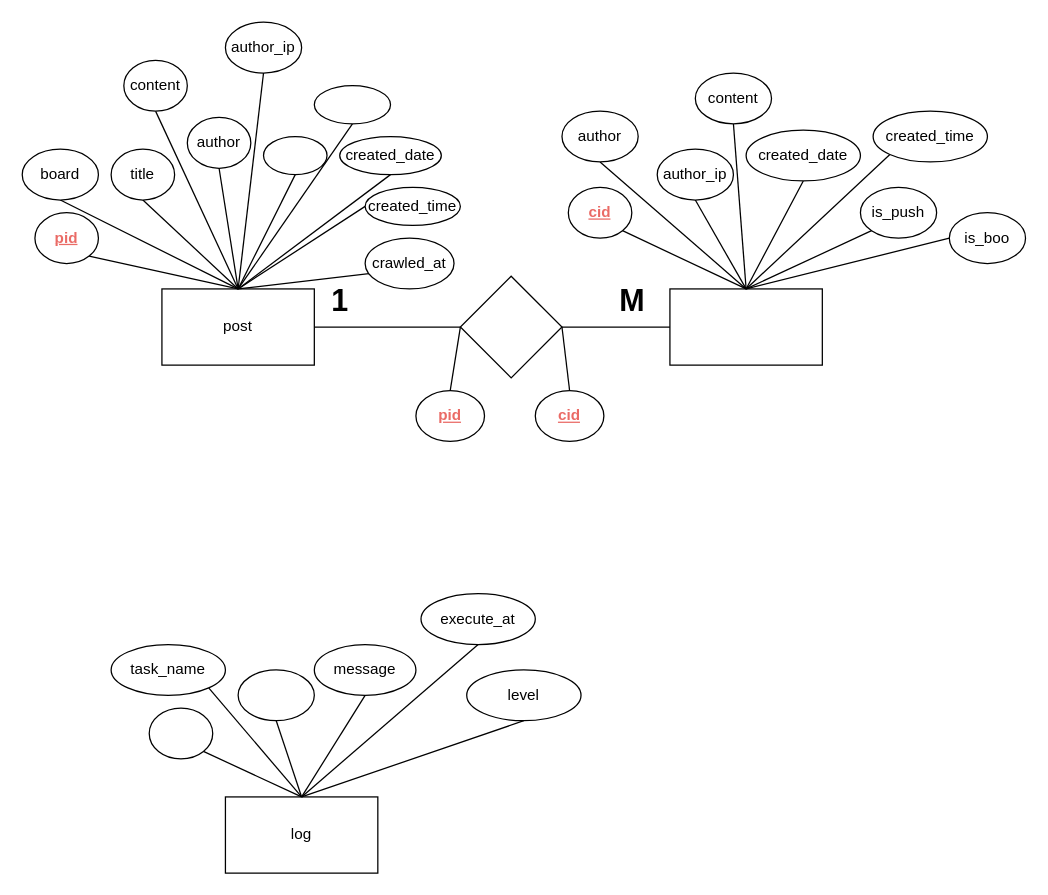
Some shapes in this 1048 by 895 pixel diagram are drawn without their labels. The box of each missing label's shape, as (x1, y1, x2, y2) in pixels:
comment: (669, 288, 822, 365)
lid: (148, 707, 213, 759)
location: (313, 84, 391, 124)
PC: (459, 275, 562, 378)
status: (237, 669, 314, 721)
url: (262, 135, 327, 175)
